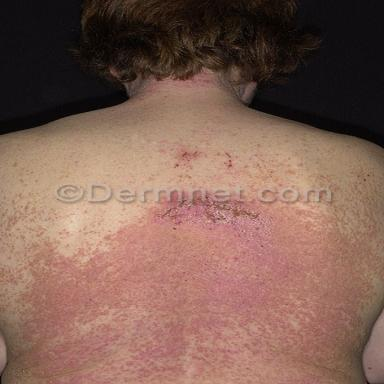Darier_s-Disease: (0, 202, 376, 383)
